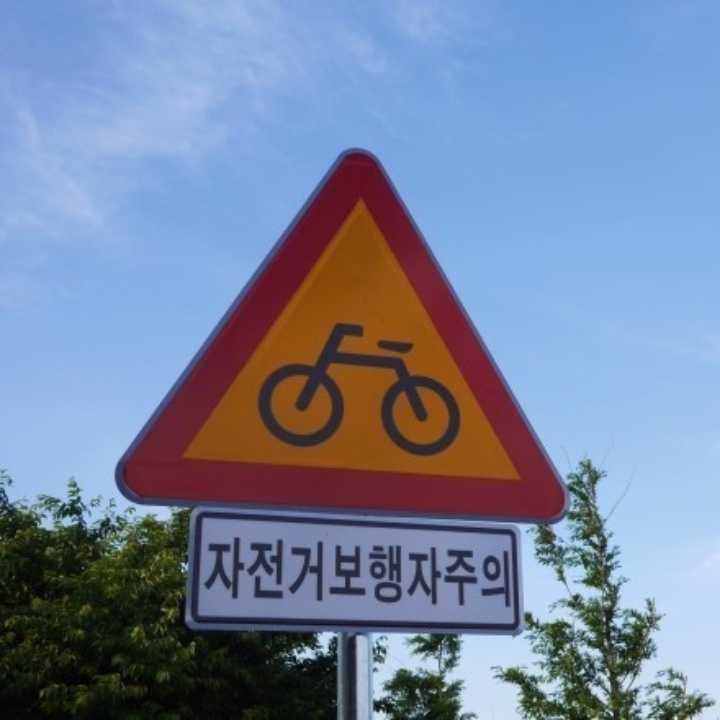bicycle: (130, 150, 563, 519)
